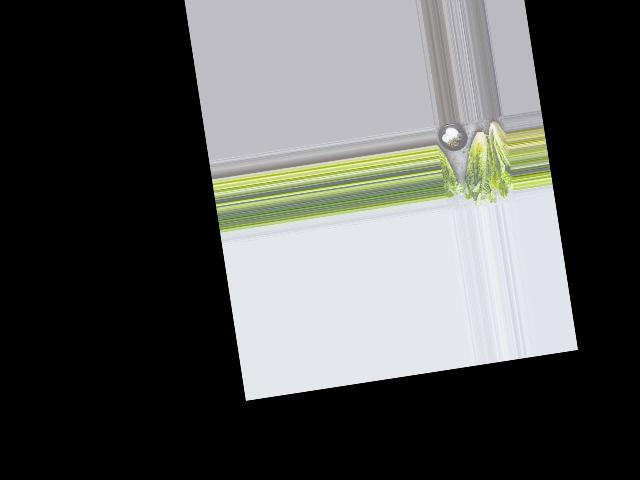lettuce: (482, 115, 514, 193)
